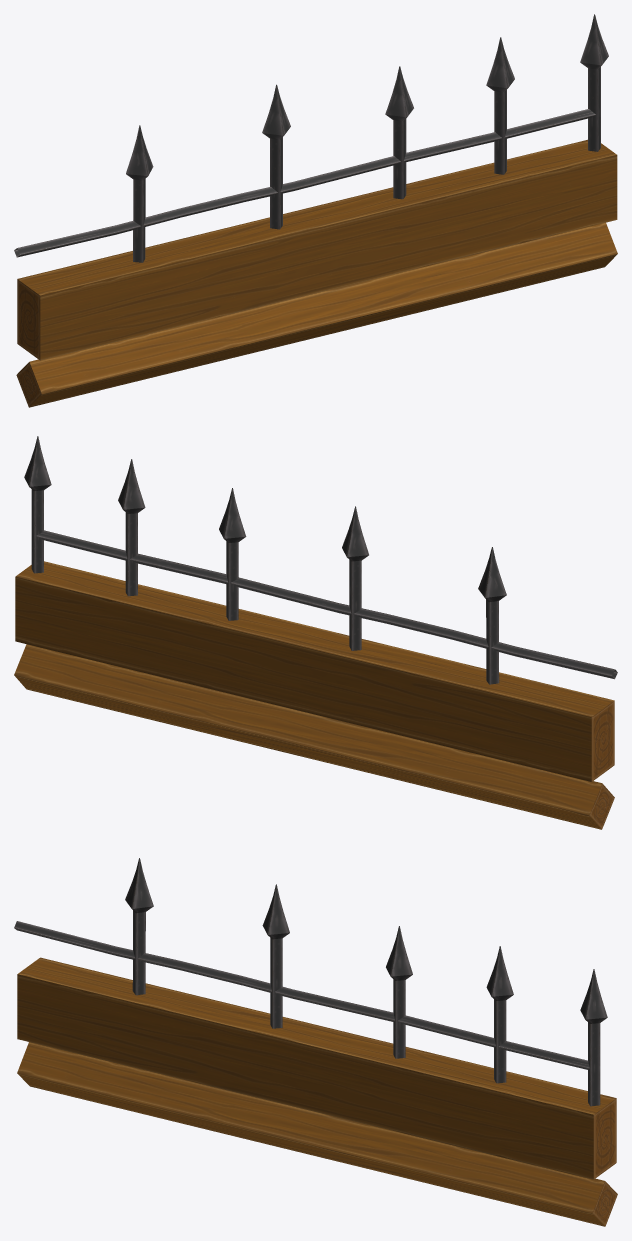
File: SM_House_Roof_Beam_Tiling.fbx
3 views of the same model, one above another, from view 1: azimuth 30°, elevation 25°; view 2: azimuth 150°, elevation 25°; view 3: azimuth 330°, elevation 25° (orthographic).
Parts seen in each view (by area): view 1: SM_House_Roof_Beam_Tiling_LOD0; view 2: SM_House_Roof_Beam_Tiling_LOD0; view 3: SM_House_Roof_Beam_Tiling_LOD0.
Part boxes in pixels (x1,y1,x2,y2): SM_House_Roof_Beam_Tiling_LOD0: (14, 14, 617, 407); SM_House_Roof_Beam_Tiling_LOD0: (14, 436, 617, 829); SM_House_Roof_Beam_Tiling_LOD0: (14, 858, 617, 1226).
Size of the model in its own units: 513 by 38.38 by 218.
